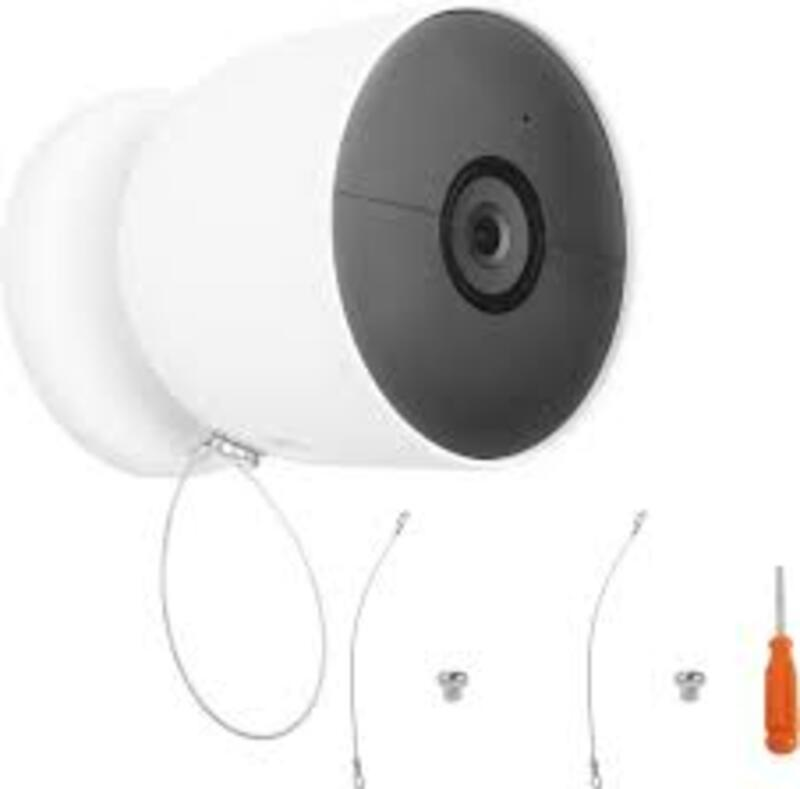nest: (123, 5, 646, 486)
